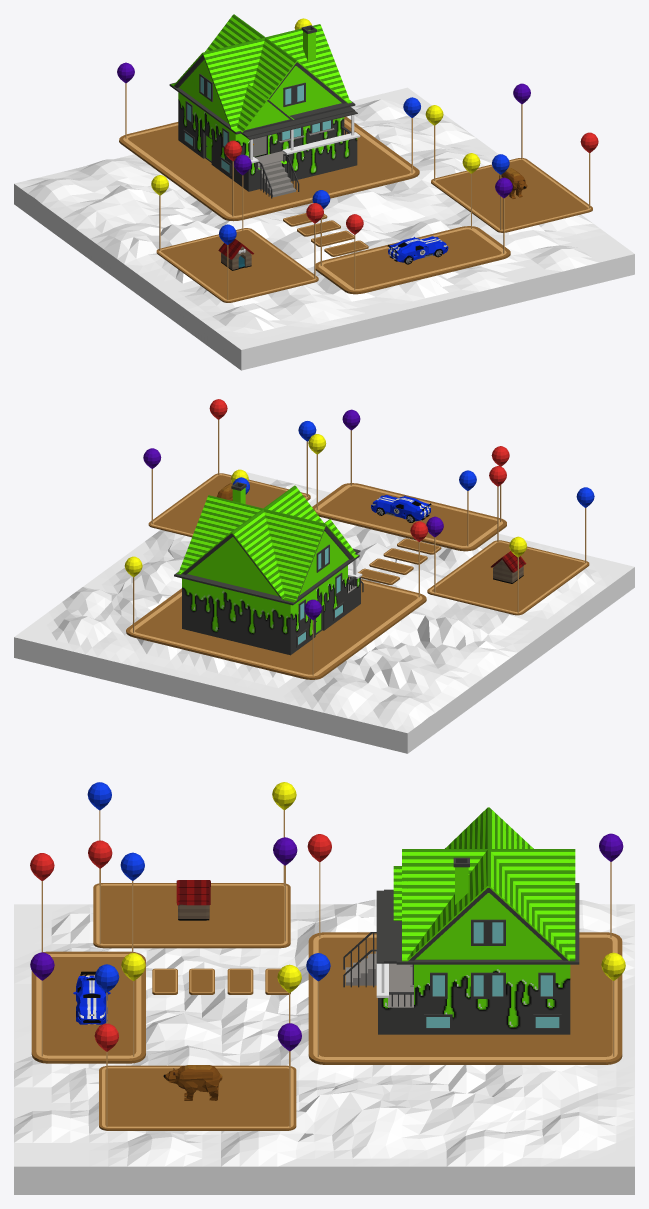
3 renders of one model, top to bottom at view 1: azimuth 30°, elevation 25°; view 2: azimuth 150°, elevation 25°; view 3: azimuth 270°, elevation 25°, orthographic. The views are drawn at different scales.
Parts seen in each view (by area): view 1: Cube.013, Cube.754, VEHICLES_RACING_CAR, OBJRANDOM_DOGHOUSE; view 2: Cube.013, Cube.754, VEHICLES_RACING_CAR, OBJRANDOM_DOGHOUSE; view 3: Cube.013, Cube.754, VEHICLES_RACING_CAR, ANIMAL_OSO, OBJRANDOM_DOGHOUSE.
Boxes of the visible parts, x1,y1,x2,y2 form: Cube.013: [14, 18, 634, 370]; Cube.754: [169, 14, 360, 198]; VEHICLES_RACING_CAR: [387, 236, 448, 264]; OBJRANDOM_DOGHOUSE: [218, 239, 253, 270]; Cube.013: [14, 399, 634, 753]; Cube.754: [174, 482, 363, 655]; VEHICLES_RACING_CAR: [371, 495, 431, 522]; OBJRANDOM_DOGHOUSE: [491, 551, 526, 583]; Cube.013: [14, 782, 634, 1194]; Cube.754: [343, 807, 579, 1034]; VEHICLES_RACING_CAR: [73, 971, 110, 1024]; ANIMAL_OSO: [163, 1065, 222, 1100]; OBJRANDOM_DOGHOUSE: [176, 880, 210, 920].
Bounding box in the file's own units: 4000 × 1695 × 4000.
Materials: 36 (2 with a texture image).
